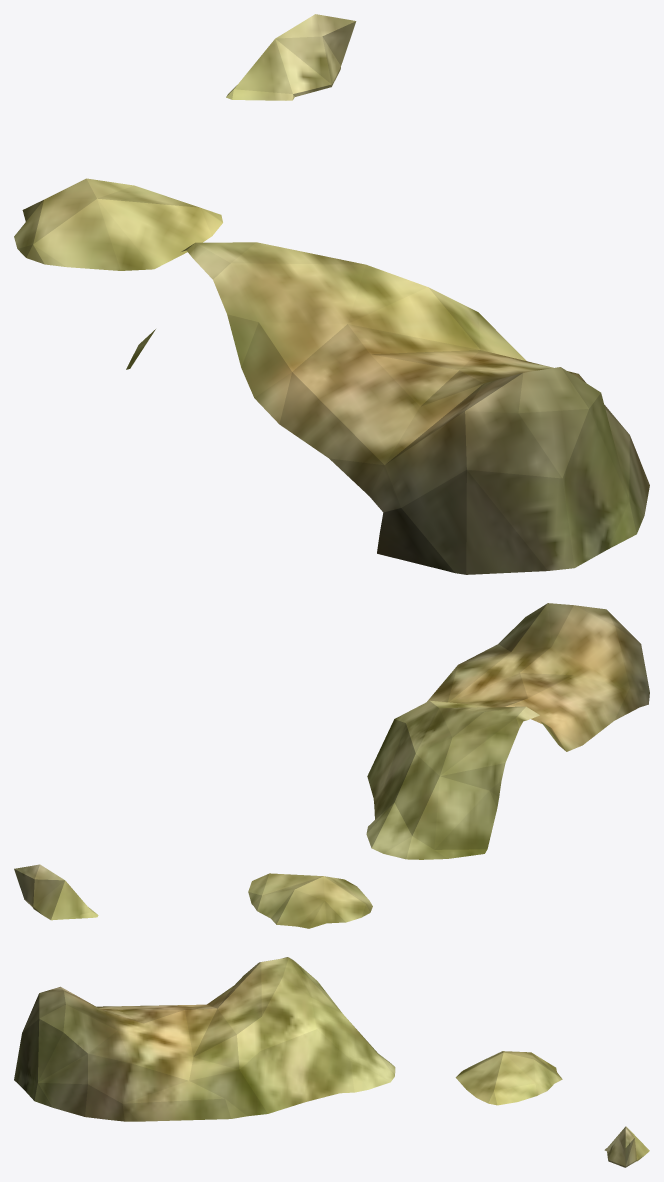
The picture shows the model from 3 angles, top to bottom: view 1: azimuth 30°, elevation 25°; view 2: azimuth 150°, elevation 25°; view 3: azimuth 270°, elevation 25°; orthographic projection. The views are drawn at different scales.
Bounding box in the file's own units: 0.9524 × 0.3154 × 2.02.
Materials: 1 (1 with a texture image).
